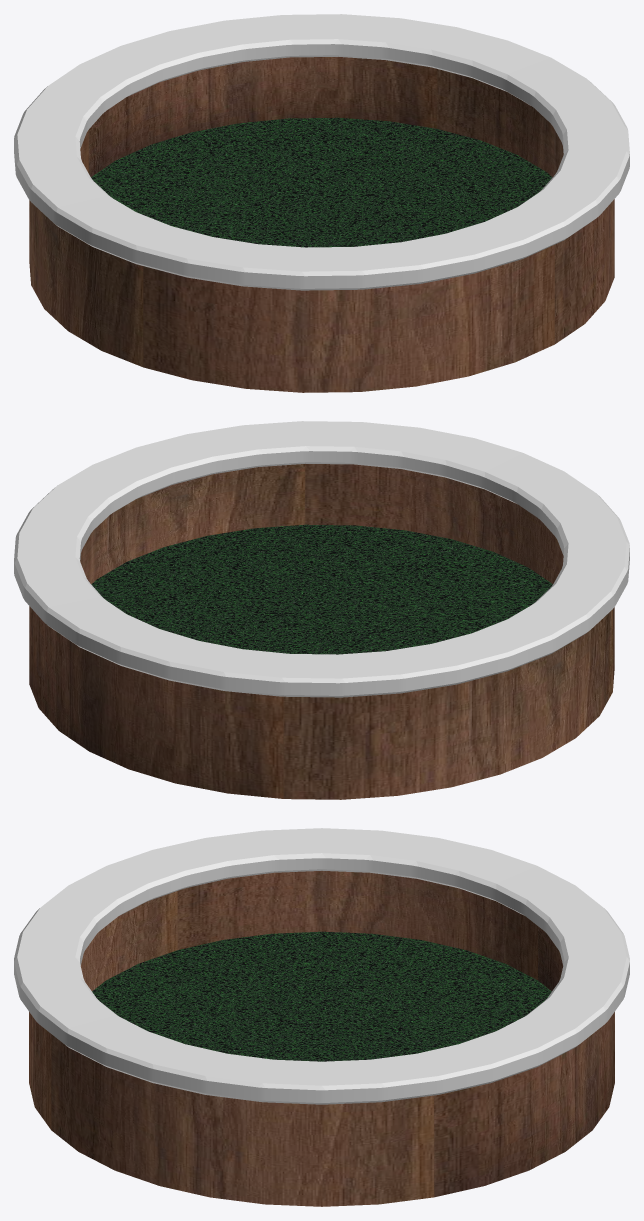
File: table2.fbx
3 renders of one model, top to bottom at view 1: azimuth 30°, elevation 25°; view 2: azimuth 150°, elevation 25°; view 3: azimuth 270°, elevation 25°, orthographic.
Visible parts, largest first — view 1: Circle; view 2: Circle; view 3: Circle.
Boxes of the visible parts, x1=… form: Circle: x1=14, y1=14, x2=629, y2=392; Circle: x1=14, y1=421, x2=629, y2=799; Circle: x1=14, y1=828, x2=629, y2=1206.
Size of the model in its own units: 285 by 64.33 by 285.
Materials: 3 (2 with a texture image).
